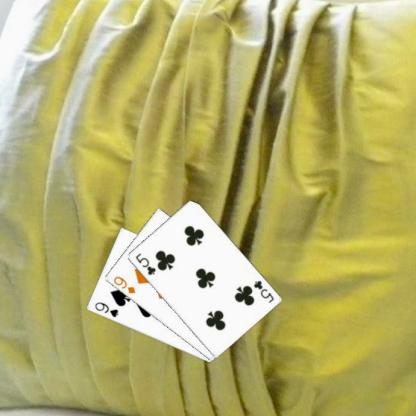5C: (132, 250, 157, 277), (251, 277, 275, 304)
9D: (110, 274, 136, 295)
9S: (92, 300, 119, 319)
